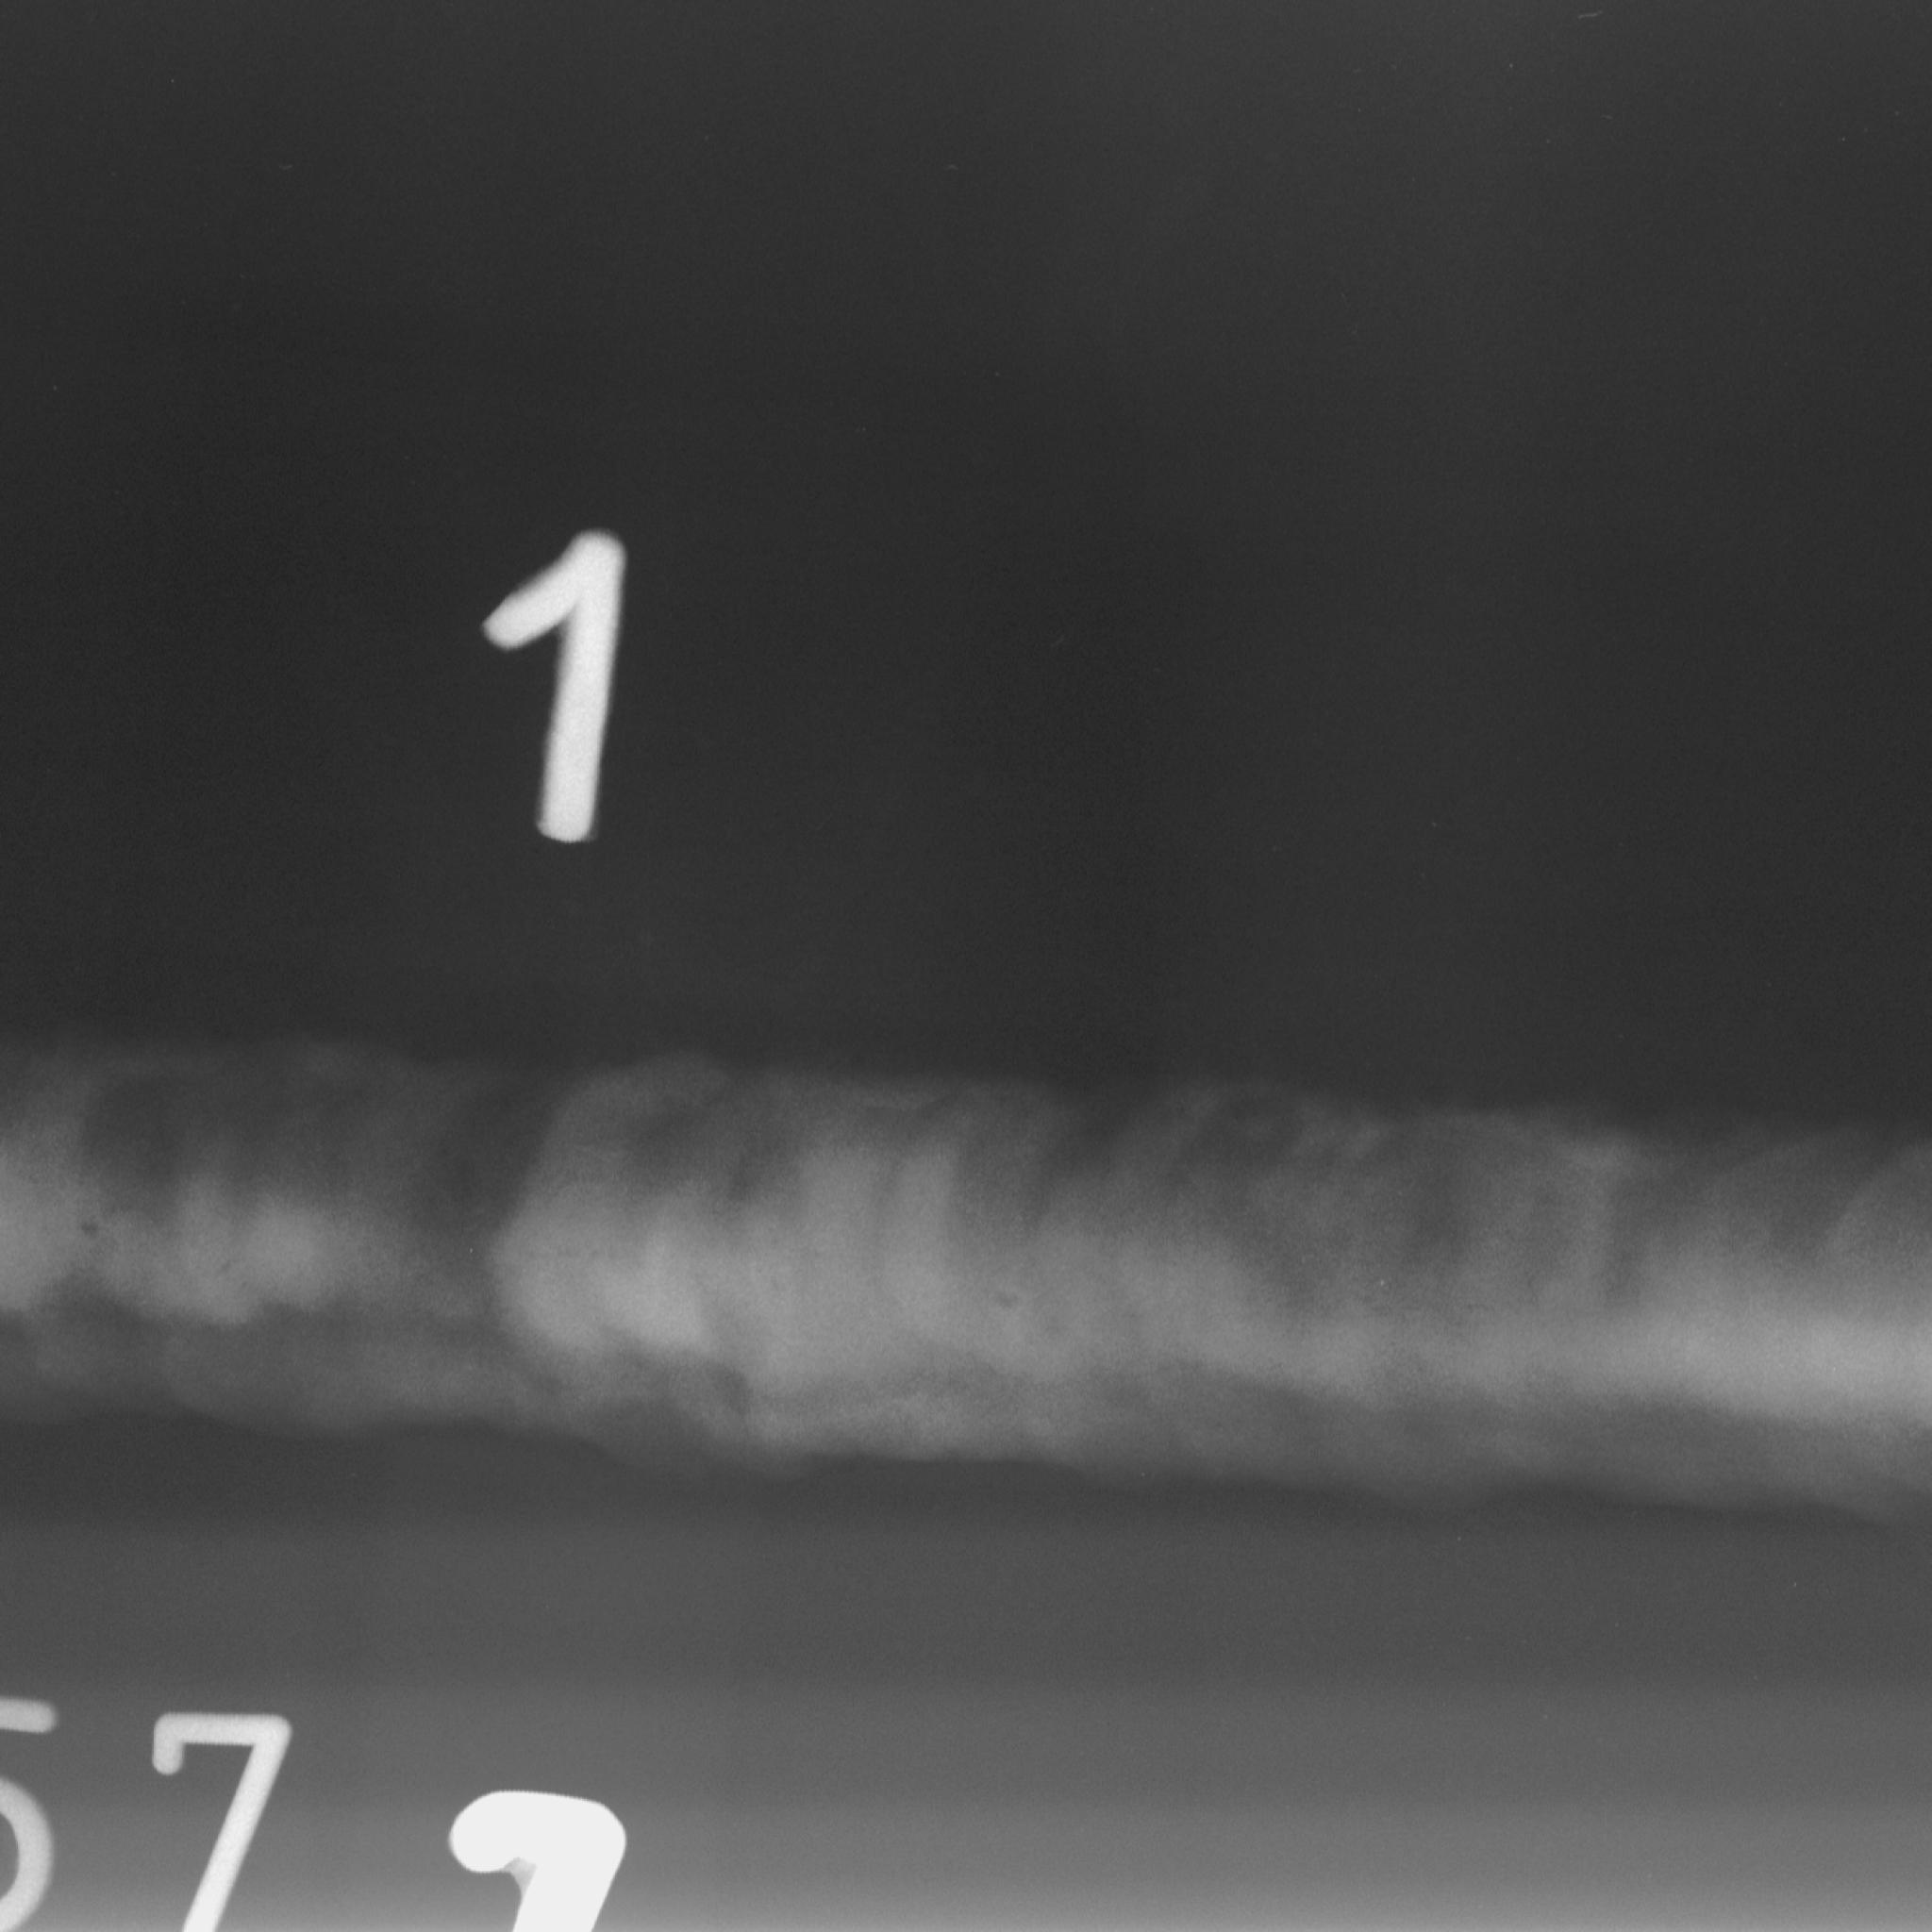Solda Ruim: (0, 941, 1932, 1587)
